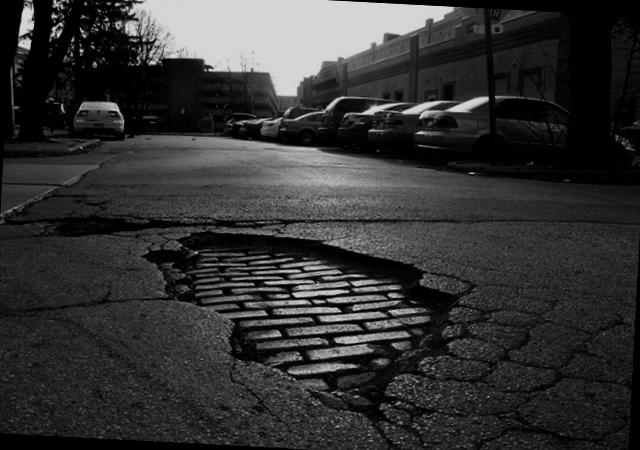Pothole: (142, 210, 469, 415), (18, 184, 196, 258)
